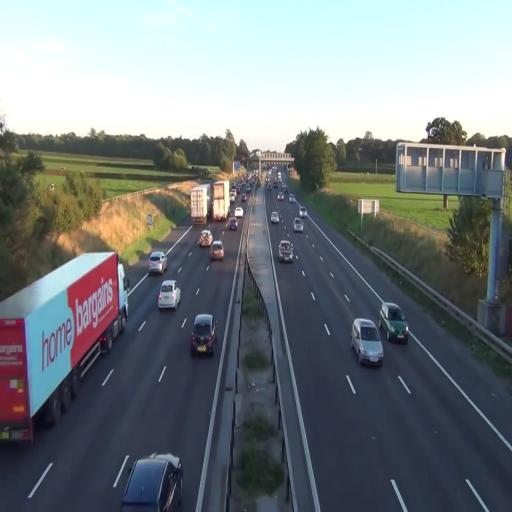vehicle: (0, 250, 129, 444), (0, 251, 128, 445), (118, 453, 183, 510), (351, 318, 384, 368), (189, 313, 216, 357), (380, 302, 408, 344), (158, 279, 181, 311), (212, 180, 230, 220), (148, 251, 167, 277), (278, 238, 294, 262), (198, 229, 214, 249), (211, 239, 224, 262), (293, 215, 303, 232), (227, 215, 237, 231), (270, 210, 280, 224)
